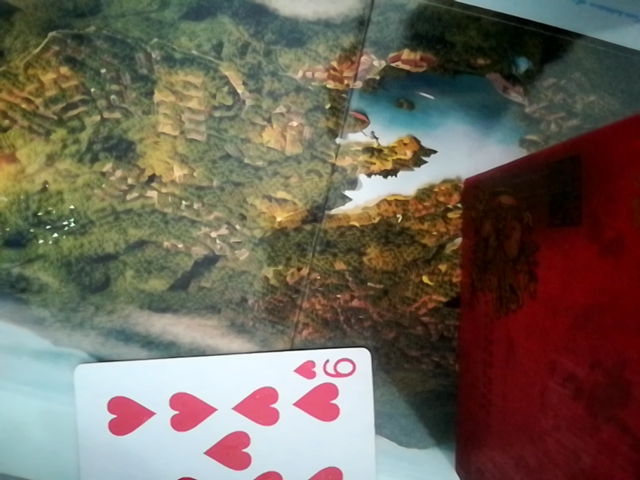hx 9: (72, 349, 381, 480)
